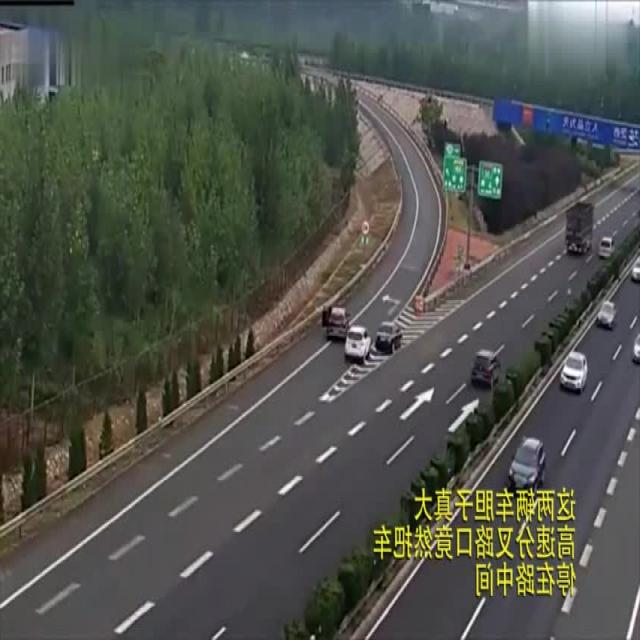point: (537, 128, 640, 315)
